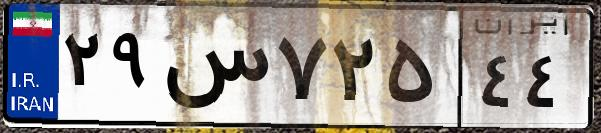2: (330, 28, 385, 110), (57, 26, 110, 100)
4: (475, 38, 525, 113), (525, 38, 570, 115)
5: (385, 28, 445, 110)
7: (270, 28, 330, 110)
9: (110, 28, 158, 98)
س: (158, 20, 270, 120)
